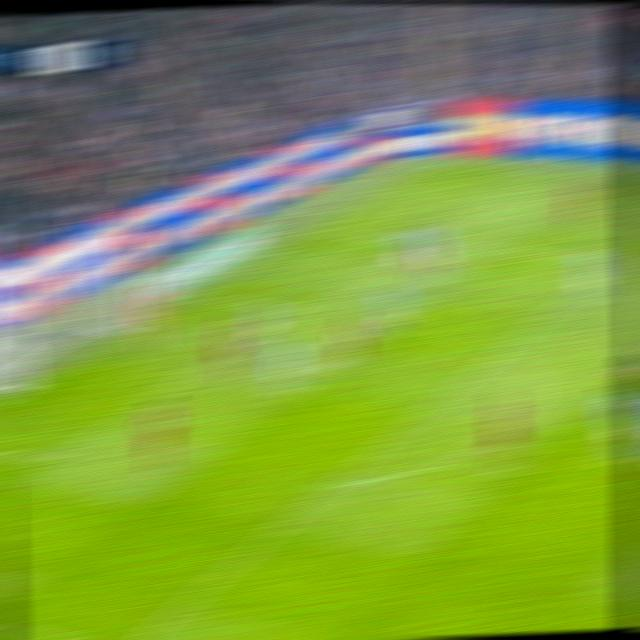bigarea_top_inner: (601, 254, 629, 270)
bigarea_top_outter: (299, 222, 328, 235)
bottom_arc_area_intersection: (318, 474, 350, 494)
corner: (417, 158, 444, 166)
smallarea_bottom_inner: (34, 448, 67, 475)
smallarea_top_inner: (280, 300, 309, 317)
smallarea_top_outter: (182, 287, 210, 301)
top_arc_area_intersection: (485, 345, 514, 360)
